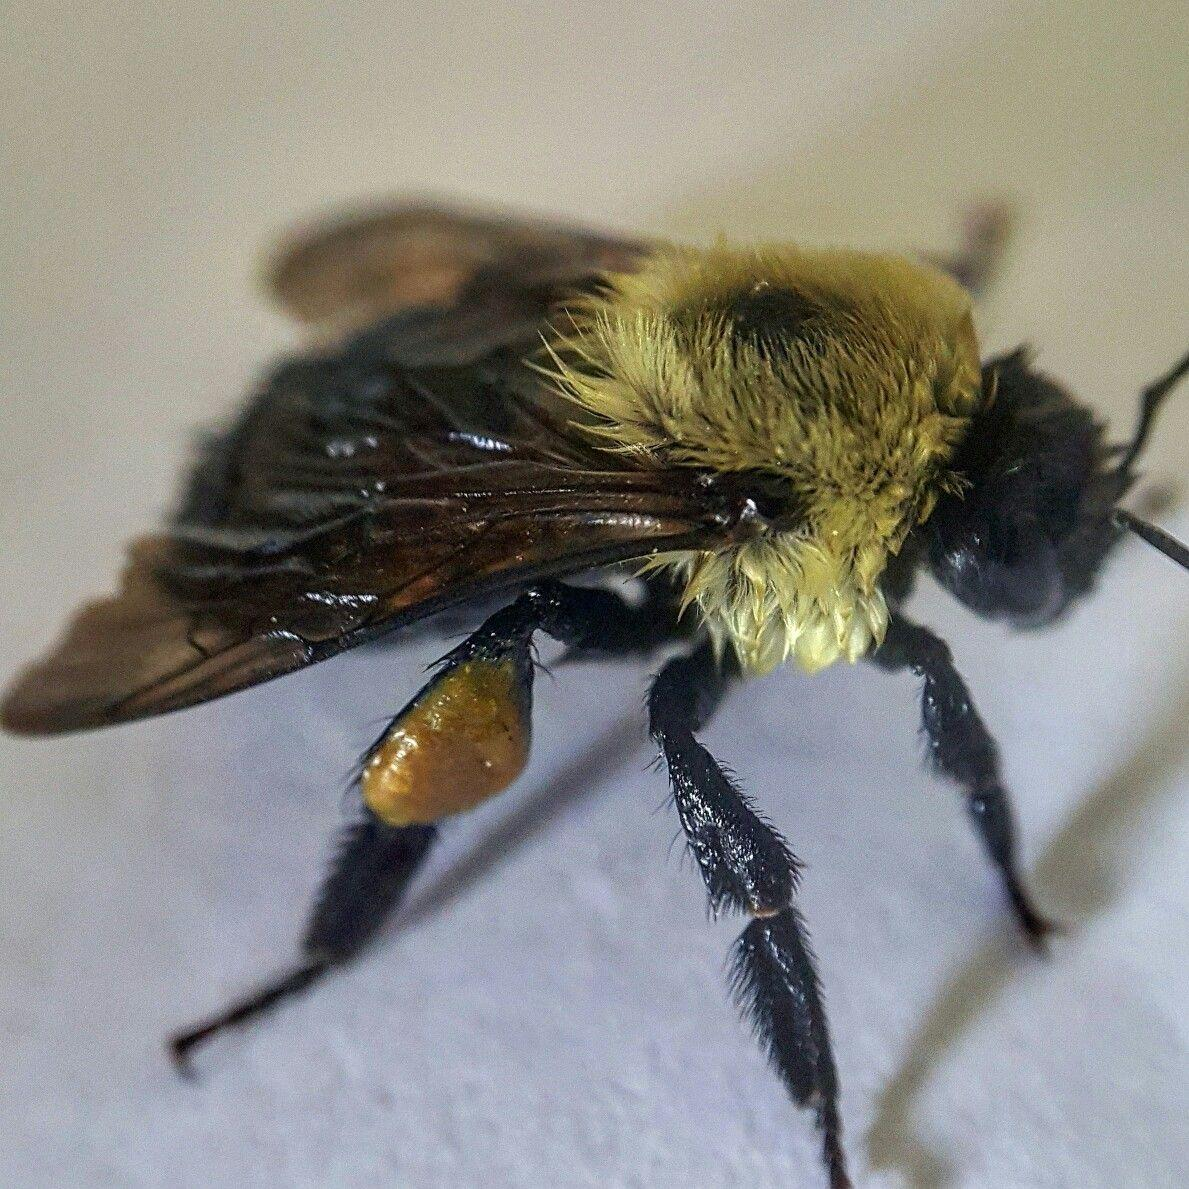Xylocopa: (0, 162, 1187, 1189)
